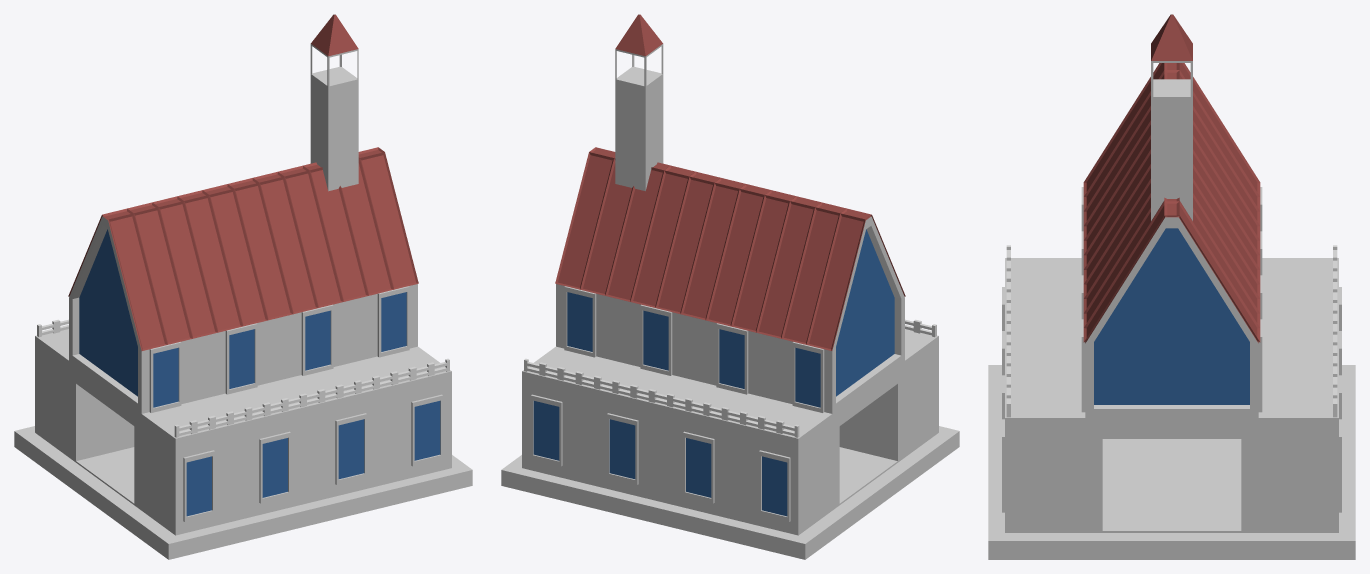
File: station_church.fbx
3 renders of one model, left to right at view 1: azimuth 30°, elevation 25°; view 2: azimuth 150°, elevation 25°; view 3: azimuth 270°, elevation 25°, orthographic. The views are drawn at different scales.
Parts seen in each view (by area): view 1: church_base, upper_window, lower_window, roof_frame, tower, fence; view 2: church_base, upper_window, lower_window, roof_frame, tower, fence; view 3: church_base, roof_frame, tower, fence, upper_window, lower_window.
Part boxes in pixels (x1,y1,x2,y2): church_base: [14, 150, 472, 559]; upper_window: [149, 286, 409, 412]; lower_window: [183, 394, 442, 521]; roof_frame: [68, 147, 418, 350]; tower: [310, 14, 358, 191]; fence: [37, 319, 449, 437]; church_base: [501, 150, 959, 559]; upper_window: [564, 286, 824, 412]; lower_window: [531, 394, 790, 521]; roof_frame: [555, 147, 905, 350]; tower: [615, 14, 663, 191]; fence: [524, 319, 936, 437]; church_base: [988, 63, 1355, 559]; roof_frame: [1083, 63, 1260, 342]; tower: [1151, 14, 1192, 220]; fence: [1006, 245, 1337, 417]; upper_window: [1081, 187, 1262, 412]; lower_window: [1002, 287, 1341, 512].
Bounding box in the file's own units: 200 × 270 × 176.
